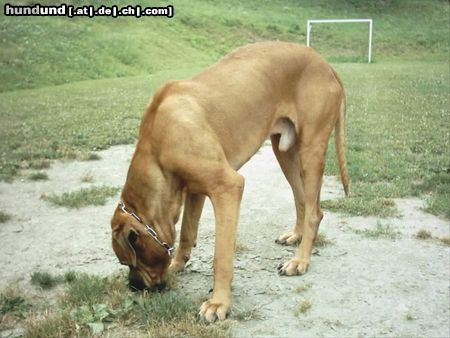tosa_inu: (109, 39, 349, 325)
